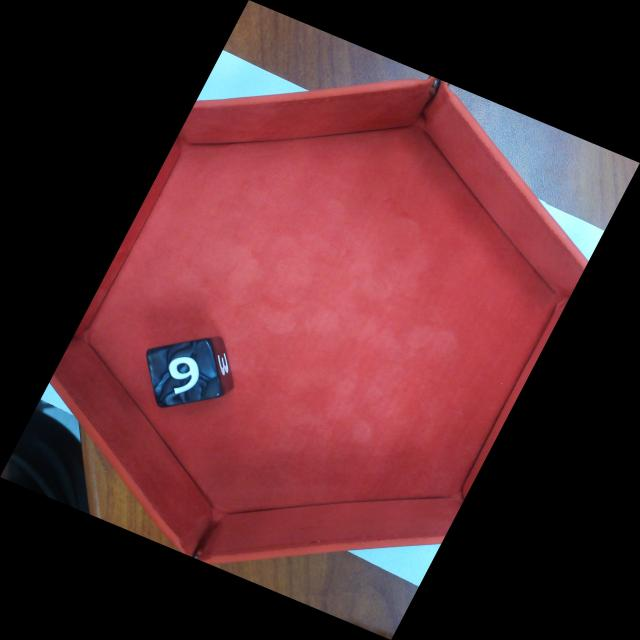dice: (144, 337, 225, 409)
